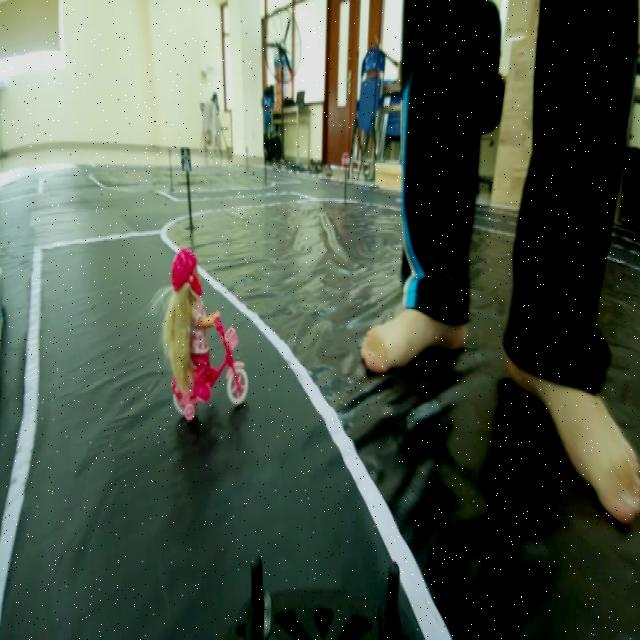pedestrian: (148, 257, 255, 424)
